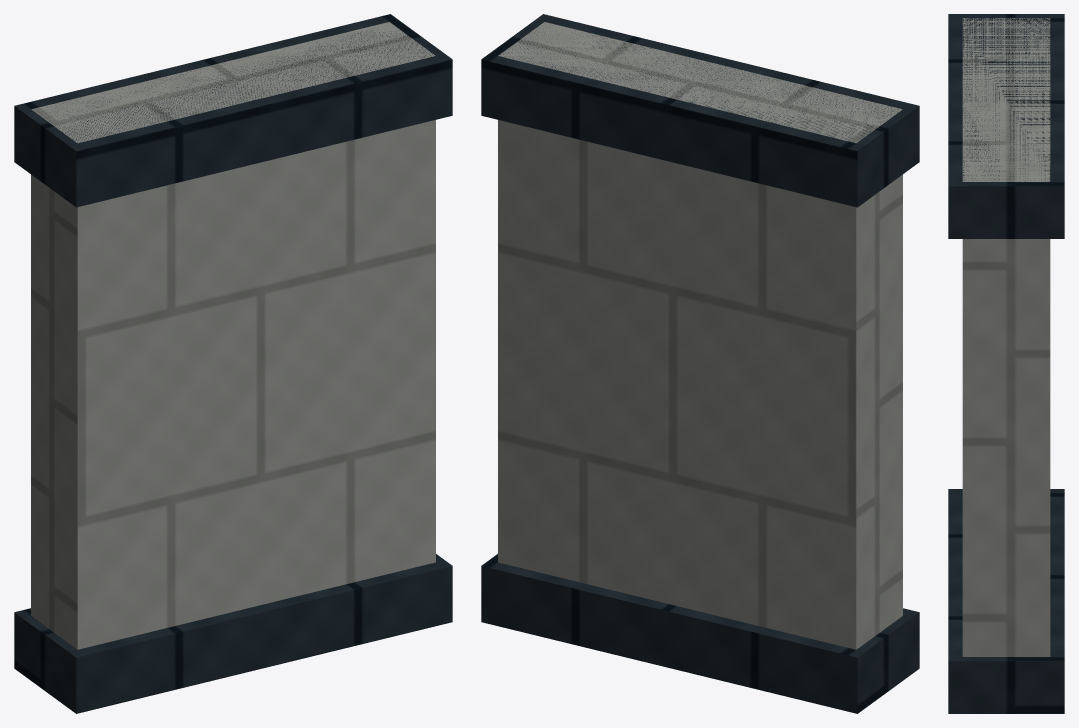
The model's file is wall_clean.obj.
3 views of the same model, side by side, from view 1: azimuth 30°, elevation 25°; view 2: azimuth 150°, elevation 25°; view 3: azimuth 270°, elevation 25° (orthographic). The views are drawn at different scales.
Parts seen in each view (by area): view 1: wall_clean; view 2: wall_clean; view 3: wall_clean.
Part boxes in pixels (x1,y1,x2,y2): wall_clean: (14, 14, 452, 713); wall_clean: (481, 14, 919, 713); wall_clean: (948, 14, 1064, 713).
Size of the model in its own units: 2.1 by 3 by 0.6.
Materials: 2 (2 with a texture image).
